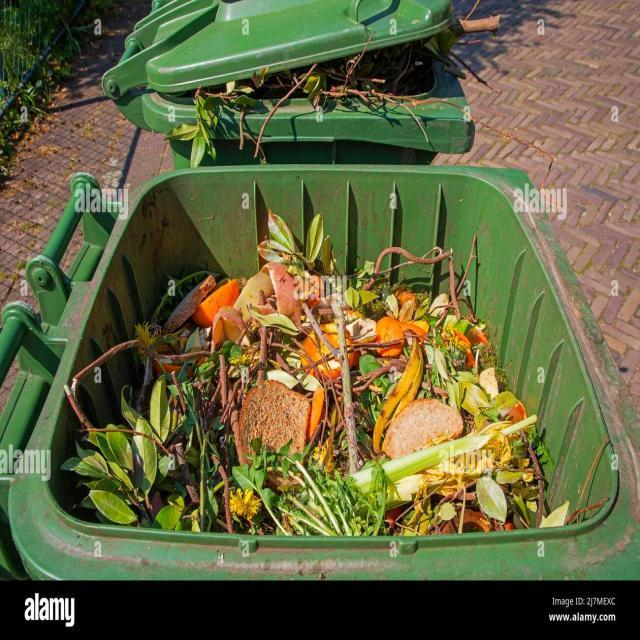Garbage: (62, 212, 609, 537)
